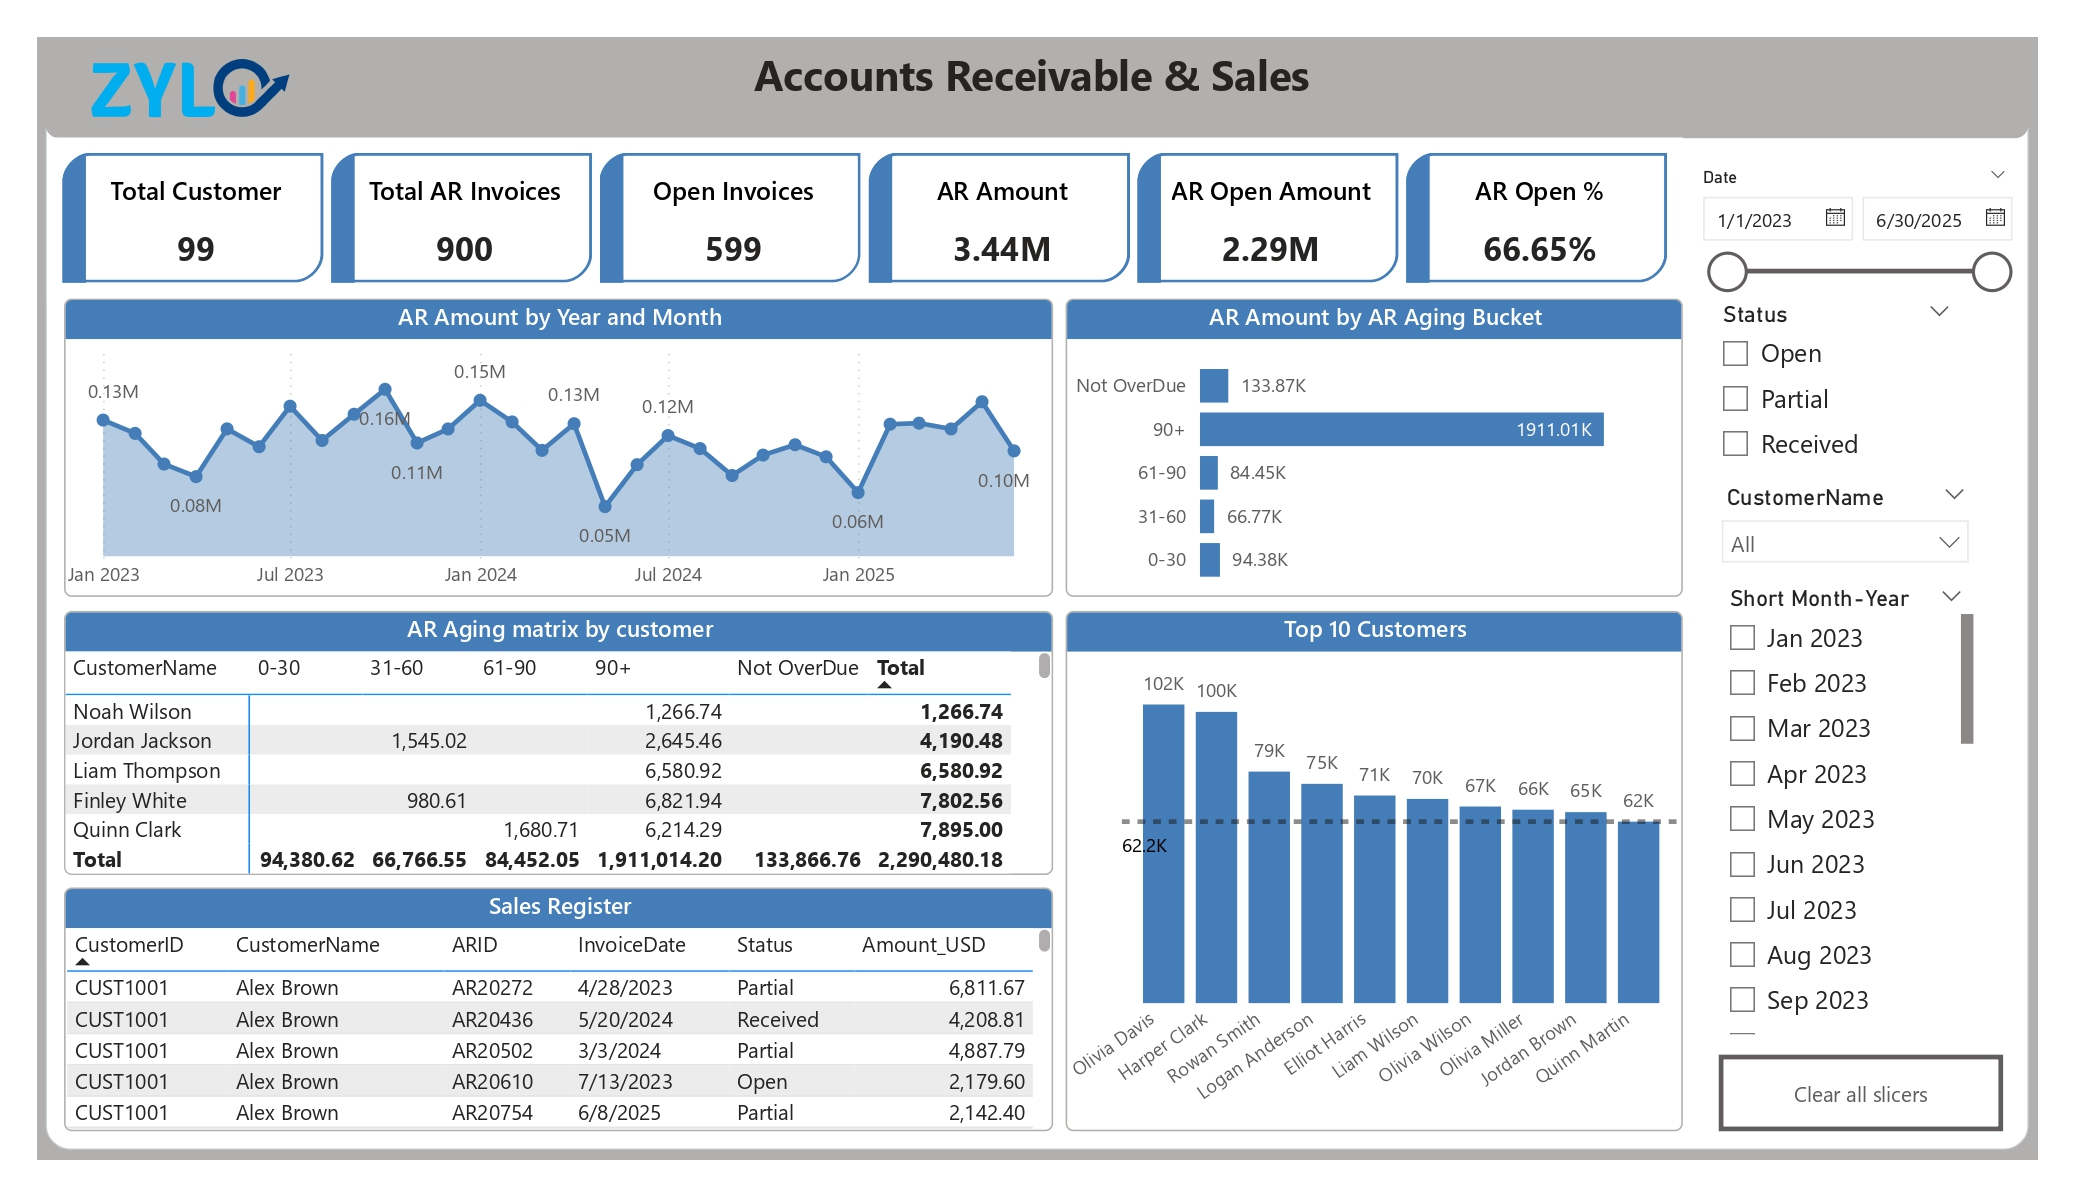

Layout of this report page (visuals, bound fields, positions):
{"tool":"powerbi","page":{"name":"Accounts Receivable & Sales ","canvas":[1280,720],"ordinal":1},"visuals":[{"type":"slicer","fields":{"Values":["Accounts-Receivable.Status"]},"box":[1066,164.4,170.2,123.5],"z":0},{"type":"slicer","fields":{"Values":["Dim_Customer.CustomerName"]},"box":[1068,281.1,178,78.8],"z":1000},{"type":"slicer","fields":{"Values":["Dim_Date.Short Month-Year"]},"box":[1069.9,346.3,174.1,296.7],"z":3000},{"type":"clusteredBarChart","fields":{"Category":["Accounts-Receivable.AR Aging Bucket"],"Y":["_Measures.# AR Amount"]},"box":[658.5,167.3,394.9,190.6],"z":5000},{"type":"pivotTable","title":" AR Aging matrix by customer","fields":{"Rows":["Dim_Customer.CustomerName"],"Columns":["Accounts-Receivable.AR Aging Bucket"],"Values":["_Measures.# AR Amount"]},"box":[16.5,366.7,633.2,169.2],"z":6000},{"type":"clusteredColumnChart","title":"Top 10 Customers","fields":{"Category":["Dim_Customer.CustomerName"],"Y":["_Measures.# AR Amount"]},"box":[658.5,366.7,394.9,333.6],"z":7000},{"type":"lineChart","fields":{"Y":["_Measures.# AR Amount"],"Category":["Dim_Date.Date.Variation.Date Hierarchy.Year","Dim_Date.Date.Variation.Date Hierarchy.Month"]},"box":[16.5,167.3,633.2,190.6],"z":8000},{"type":"tableEx","title":"Sales Register","fields":{"Values":["Accounts-Receivable.CustomerID","Dim_Customer.CustomerName","Accounts-Receivable.ARID","Accounts-Receivable.InvoiceDate","Accounts-Receivable.Status","Accounts-Receivable.Amount_USD"]},"box":[16.5,543.7,633.2,156.6],"z":9000},{"type":"textbox","box":[344.3,0,591.4,60],"z":9001},{"type":"cardVisual","fields":{"Data":["_Measures.# Total Customer","_Measures.# Total AR Invoices","_Measures.# Total AR Open Invoices","_Measures.# AR Amount","_Measures.# AR Open Amount","_Measures.# AR Open %"]},"box":[6.2,64.3,1046.8,102.6],"z":9002},{"type":"slicer","fields":{"Values":["Dim_Date.Date"]},"box":[1053.4,77.8,218.8,89.5],"z":9003},{"type":"actionButton","box":[1075.7,650.7,181.9,49.6],"z":9004}]}

Visuals, with their boxes on the page's 1280x720 design canvas (x1, y1, x2, y2). These are canvas units, not pixel positions in the 2075x1200 screenshot, which may show the page scaled, cropped or inside an application window:
slicer - Accounts-Receivable.Status: Rect(1066, 164, 1236, 288)
slicer - Dim_Customer.CustomerName: Rect(1068, 281, 1246, 360)
slicer - Dim_Date.Short Month-Year: Rect(1070, 346, 1244, 643)
clusteredBarChart - Accounts-Receivable.AR Aging Bucket x _Measures.# AR Amount: Rect(658, 167, 1053, 358)
" AR Aging matrix by customer" pivotTable: Rect(16, 367, 650, 536)
"Top 10 Customers" clusteredColumnChart: Rect(658, 367, 1053, 700)
lineChart - _Measures.# AR Amount x Dim_Date.Date.Variation.Date Hierarchy.Year: Rect(16, 167, 650, 358)
"Sales Register" tableEx: Rect(16, 544, 650, 700)
textbox: Rect(344, 0, 936, 60)
cardVisual - _Measures.# Total Customer x _Measures.# Total AR Invoices: Rect(6, 64, 1053, 167)
slicer - Dim_Date.Date: Rect(1053, 78, 1272, 167)
actionButton: Rect(1076, 651, 1258, 700)
